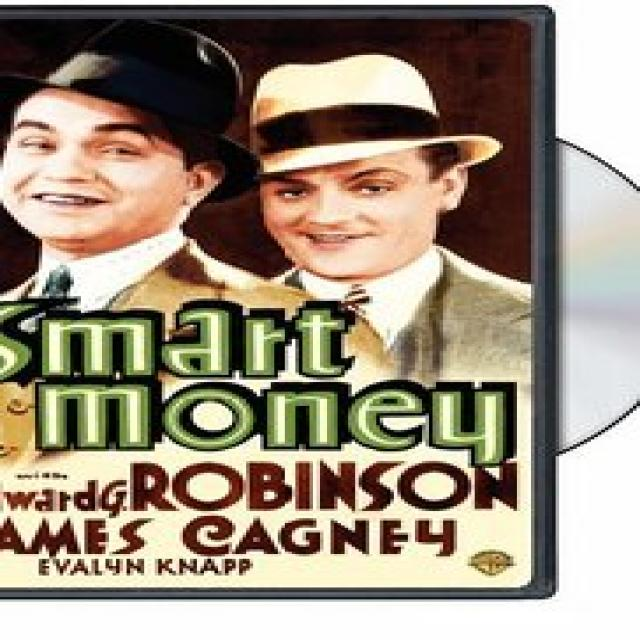movie-judul: (0, 295, 537, 462)
picture: (0, 17, 542, 279)
